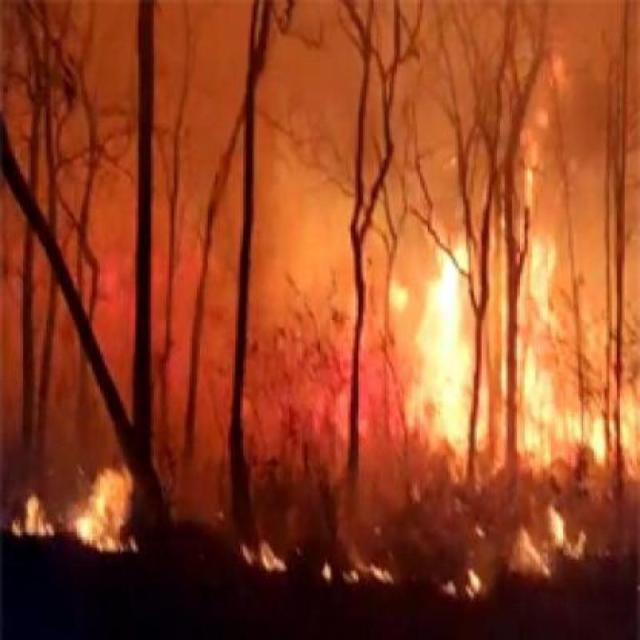Fire: (25, 105, 640, 640)
